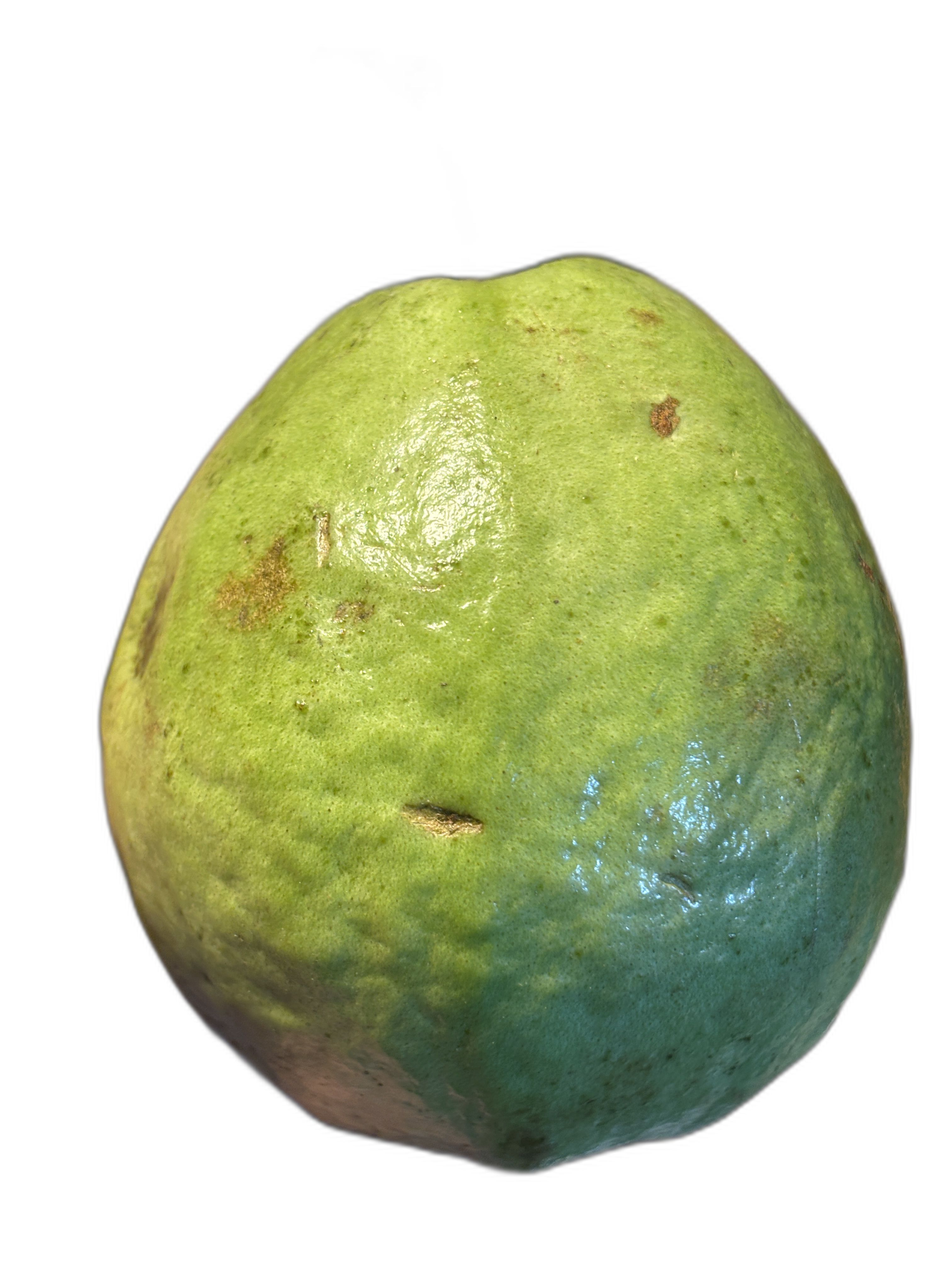guava: (38, 178, 812, 1152)
